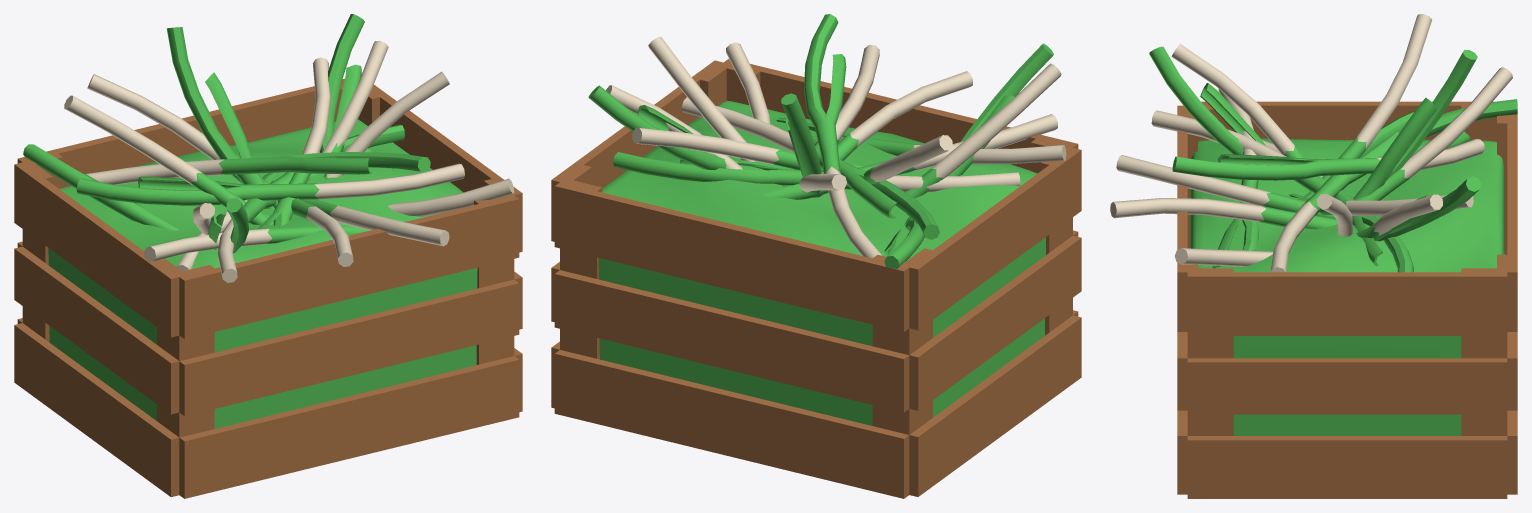
Rendered from ASFTR_CrateOnion.fbx.
3 views of the same model, side by side, from view 1: azimuth 30°, elevation 25°; view 2: azimuth 150°, elevation 25°; view 3: azimuth 270°, elevation 25° (orthographic). The views are drawn at different scales.
Visible parts, largest first — view 1: ASFTR_CrateOnion; view 2: ASFTR_CrateOnion; view 3: ASFTR_CrateOnion.
Part boxes in pixels (x1,y1,x2,y2): ASFTR_CrateOnion: (14,14,522,498); ASFTR_CrateOnion: (551,14,1081,498); ASFTR_CrateOnion: (1110,14,1517,498).
Size of the model in its own units: 98.39 by 88.78 by 95.67.
